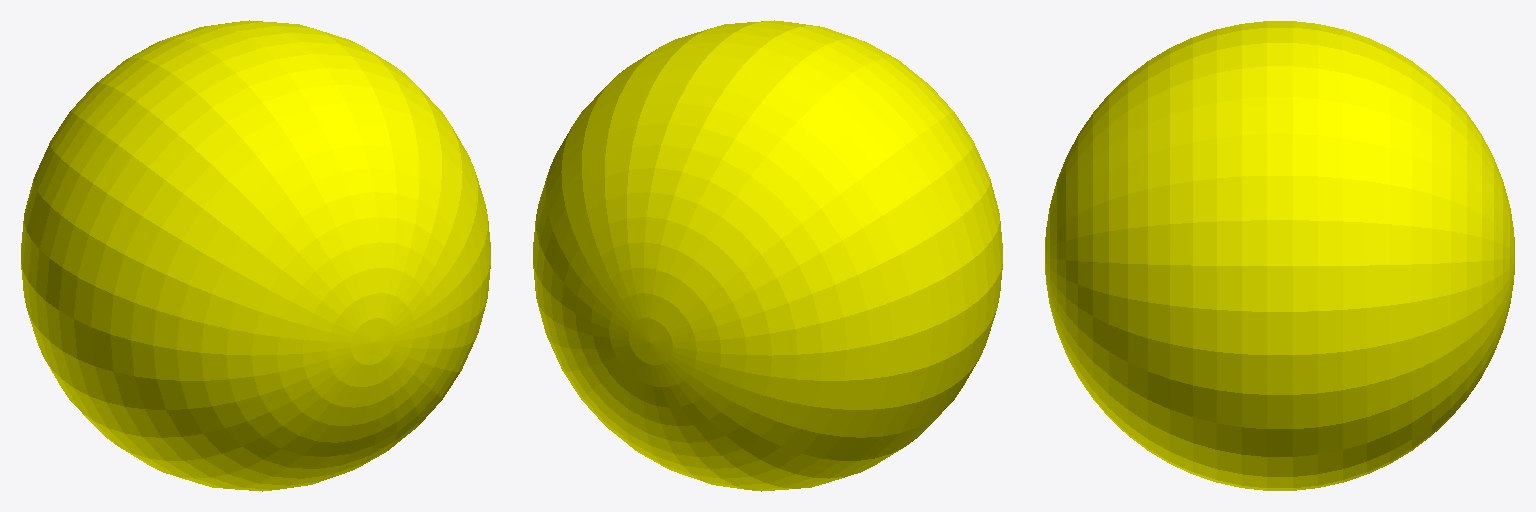
URDF robot description (urdf_robot):
<?xml version="1.0" ?>
<robot name="urdf_robot">
  <link name="baseLink">
  	<contact>
      <rolling_friction value="0.03"/>
      <spinning_friction value="0.03"/>
    </contact>

    <inertial>
      <origin rpy="0 0 0" xyz="0 0 0"/>
       <mass value="10.0"/>
       <inertia ixx="1" ixy="0" ixz="0" iyy="1" iyz="0" izz="1"/>
    </inertial>
    <visual>
      <origin rpy="0 0 0" xyz="0 0 0"/>
      <geometry>
	      				<mesh filename="sphere_smooth.obj" scale="0.5 0.5 0.5"/>      
      </geometry>
      <material name="white">
        <color rgba="1 1 0 1"/>
        <specular rgb="1 1 1"/>
      </material>
    </visual>
    <collision>
      <origin rpy="0 0 0" xyz="0 0 0"/>
      <geometry>
	 <sphere radius="0.5"/>
      </geometry>
    </collision>
  </link>
</robot>

--- Render facts (derived) ---
3 views of the same robot in one strip: view 1: azimuth 30°, elevation 25°; view 2: azimuth 150°, elevation 25°; view 3: azimuth 270°, elevation 25° (orthographic).
Robot: urdf_robot — 1 links, 0 joints (none); root link baseLink; default pose: every joint at zero.
Links seen in each view (by area): view 1: baseLink; view 2: baseLink; view 3: baseLink.
Boxes of the visible links, box(x1,y1,x2,y2) form: baseLink: box(21, 20, 490, 491); baseLink: box(533, 20, 1002, 491); baseLink: box(1045, 21, 1514, 490).
Size in the robot's own frame: 0.9985 by 1 by 0.9985 metres.
1 mesh visuals loaded from 1 distinct referenced files (1 OBJ).